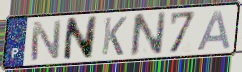7: (168, 10, 198, 55)
A: (195, 9, 232, 52)
K: (100, 16, 128, 57)
N: (129, 10, 168, 59), (61, 14, 99, 63), (28, 19, 63, 63)
